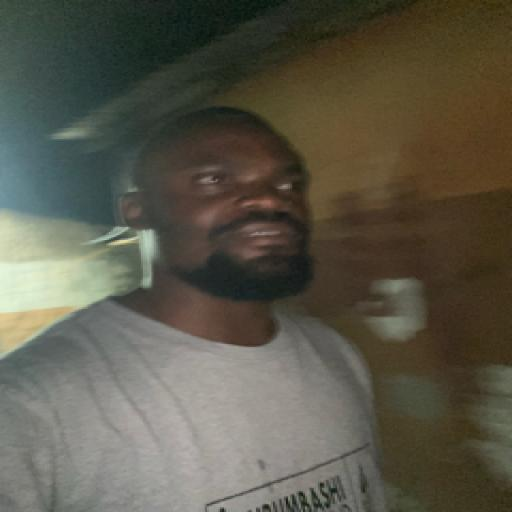JEANLUC: (118, 92, 338, 318)
